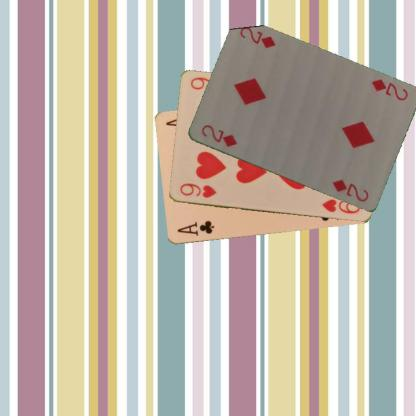2d: (368, 76, 409, 102), (198, 122, 238, 148)
9h: (177, 180, 218, 199)
Ac: (174, 219, 216, 238)
